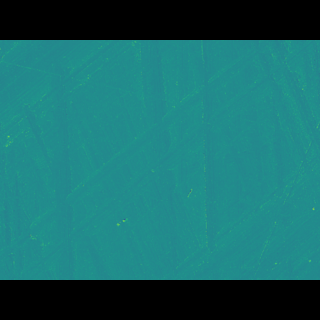Loch: (25, 91, 287, 242)
